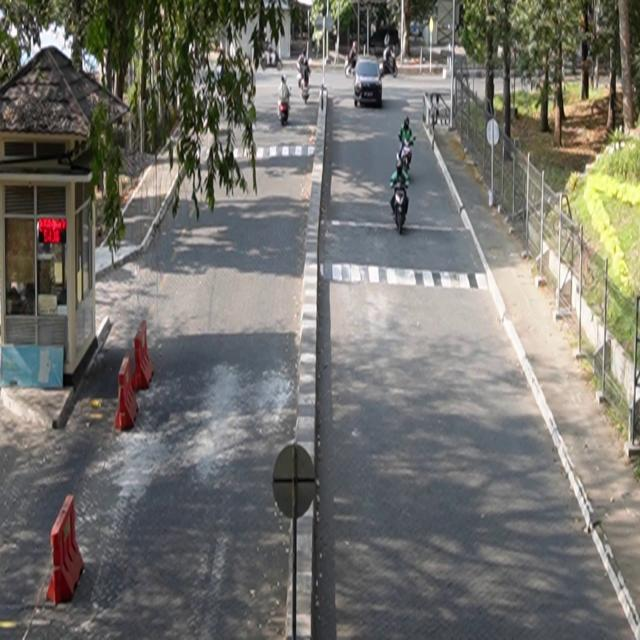car: (355, 58, 383, 108)
